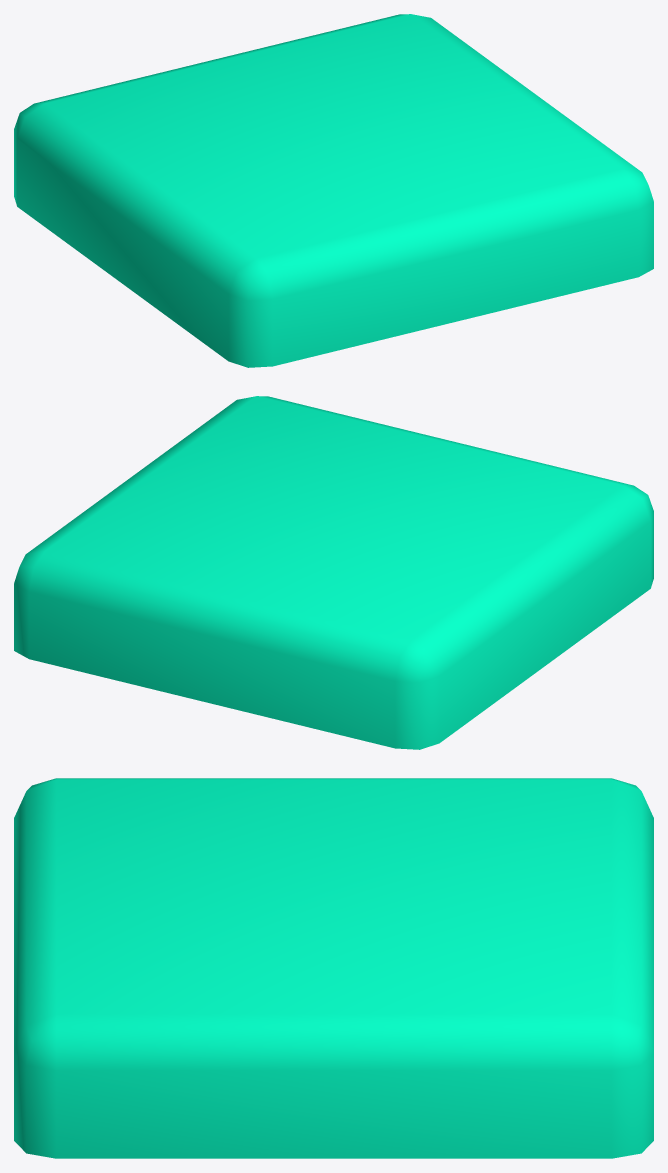
Rendered from button_square_green.glb.
The picture shows the model from 3 angles, top to bottom: view 1: azimuth 30°, elevation 25°; view 2: azimuth 150°, elevation 25°; view 3: azimuth 270°, elevation 25°; orthographic projection. The views are drawn at different scales.
Visible parts, largest first — view 1: Squareutton.011; view 2: Squareutton.011; view 3: Squareutton.011.
Boxes of the visible parts, <box> form: Squareutton.011: <box>14,14,653,367</box>; Squareutton.011: <box>14,396,653,749</box>; Squareutton.011: <box>14,778,653,1158</box>.
Size of what is drawn, in the model's own units: 0.1845 by 0.0403 by 0.1845.
1 material, 1 textured.
